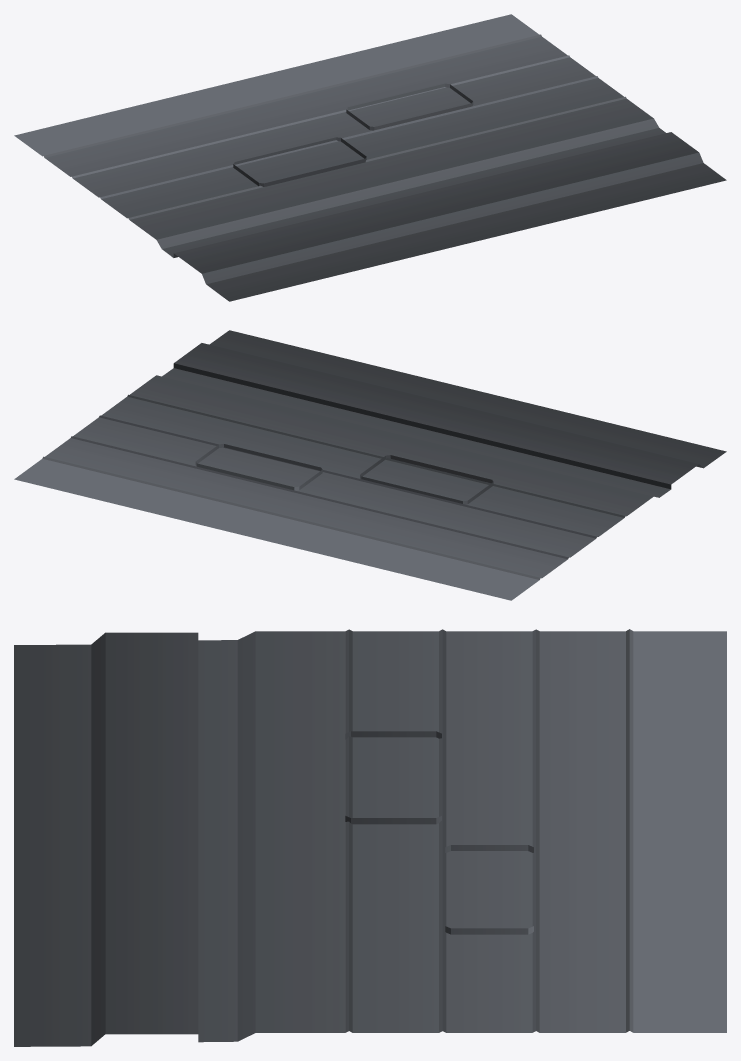
The model's file is Mid Wall 03.FBX.
3 views of the same model, one above another, from view 1: azimuth 30°, elevation 25°; view 2: azimuth 150°, elevation 25°; view 3: azimuth 270°, elevation 25° (orthographic). The views are drawn at different scales.
Parts seen in each view (by area): view 1: Mid Wall 03; view 2: Mid Wall 03; view 3: Mid Wall 03.
Boxes of the visible parts, box(x1,y1,x2,y2) form: Mid Wall 03: box(14, 14, 726, 301); Mid Wall 03: box(14, 330, 726, 600); Mid Wall 03: box(14, 629, 726, 1046).
Size of the model in its own units: 400 by 9.36 by 300.
